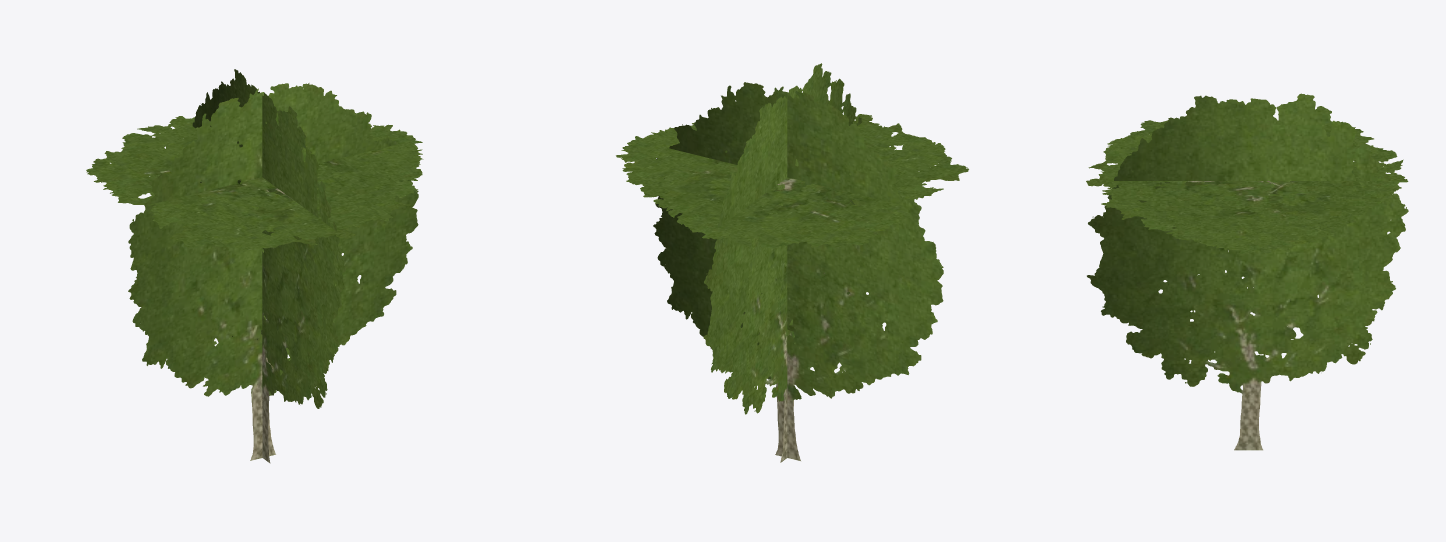
The model's file is arbre_platane_lod2.glb.
3 views of the same model, side by side, from view 1: azimuth 30°, elevation 25°; view 2: azimuth 150°, elevation 25°; view 3: azimuth 270°, elevation 25° (orthographic). The views are drawn at different scales.
Parts seen in each view (by area): view 1: arbre_platane_lod2; view 2: arbre_platane_lod2; view 3: arbre_platane_lod2.
Boxes of the visible parts, x1=… form: arbre_platane_lod2: x1=86, y1=69, x2=423, y2=463; arbre_platane_lod2: x1=616, y1=63, x2=968, y2=462; arbre_platane_lod2: x1=1086, y1=93, x2=1408, y2=450.
Bounding box in the file's own units: 13.96 × 15.05 × 13.96.
1 material, 1 textured.
